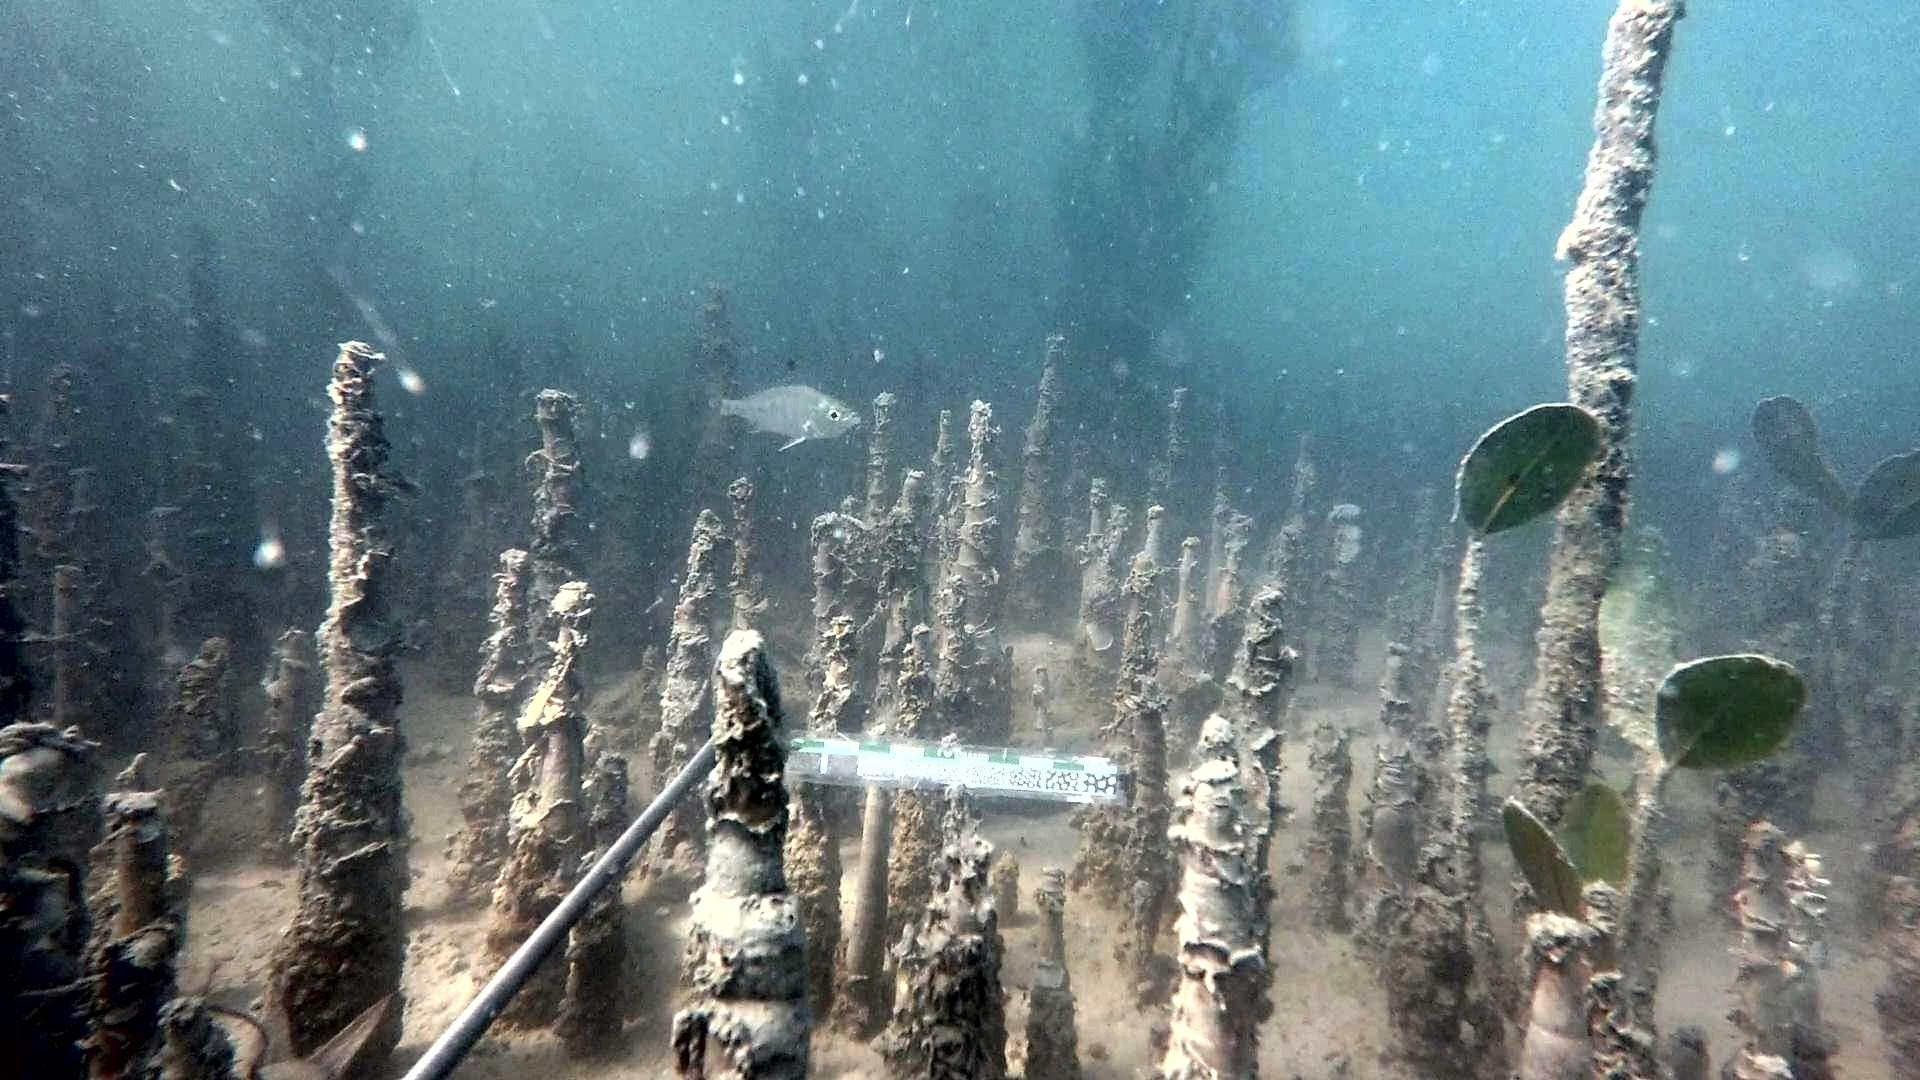gerres: (695, 358, 862, 451)
